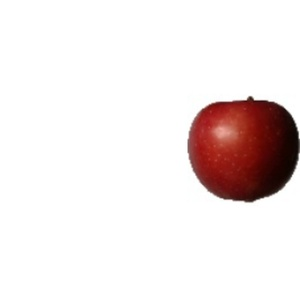maçã braeburn: (186, 95, 300, 205)
